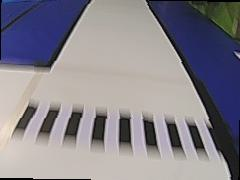CrossWalk: (3, 95, 216, 158)
